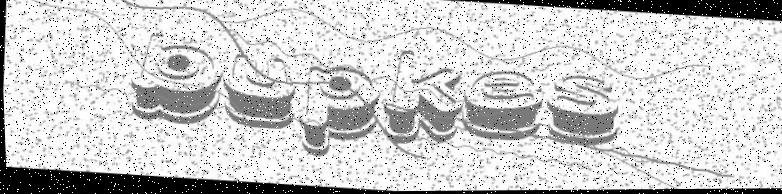b: (119, 16, 227, 126)
e: (457, 66, 551, 149)
k: (380, 45, 470, 155)
p: (292, 57, 382, 171)
s: (540, 67, 626, 151)
u: (214, 47, 297, 134)
